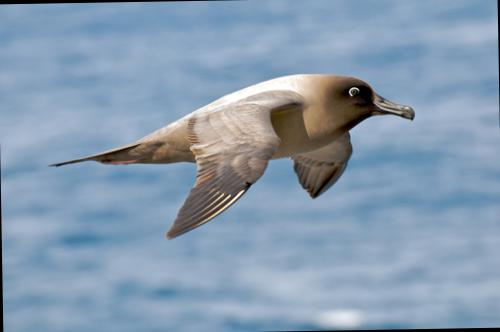bird: (32, 62, 440, 258)
